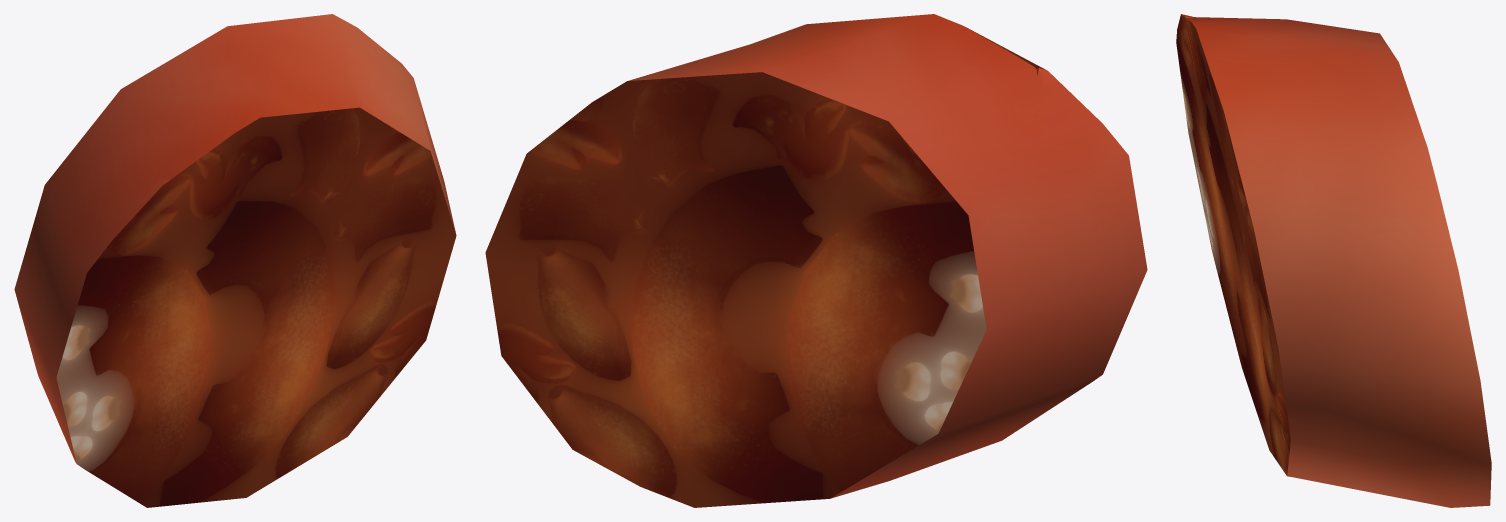
File: Sausage10.fbx
3 renders of one model, left to right at view 1: azimuth 30°, elevation 25°; view 2: azimuth 150°, elevation 25°; view 3: azimuth 270°, elevation 25°, orthographic.
Parts seen in each view (by area): view 1: Sausage10; view 2: Sausage10; view 3: Sausage10.
Boxes of the visible parts, x1,y1,x2,y2 form: Sausage10: [14, 14, 456, 507]; Sausage10: [485, 14, 1147, 507]; Sausage10: [1176, 14, 1491, 507].
Size of the model in its own units: 0.1555 by 0.12 by 0.0836.
